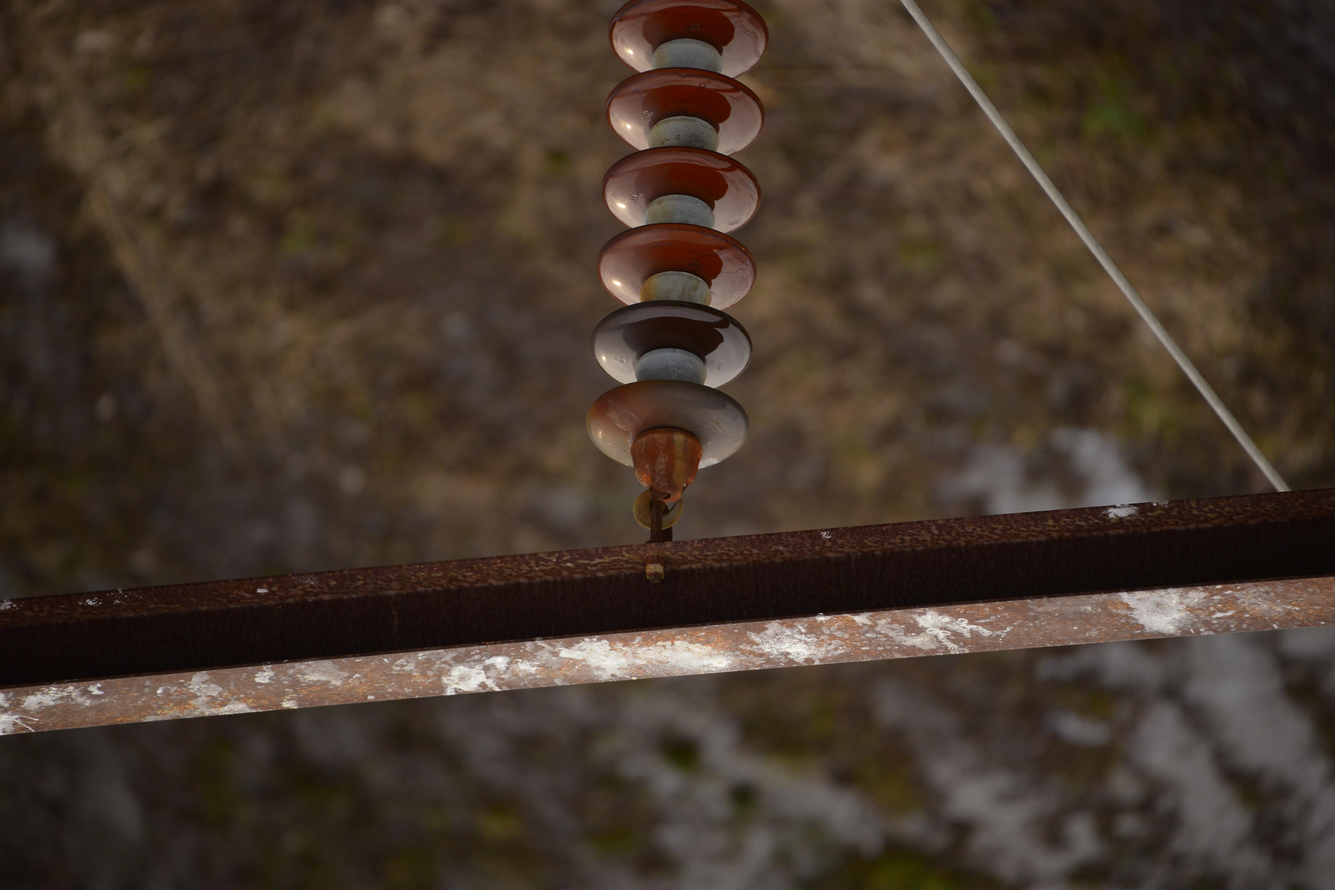Flashover: (606, 398, 646, 439)
insulator: (585, 0, 774, 471)
